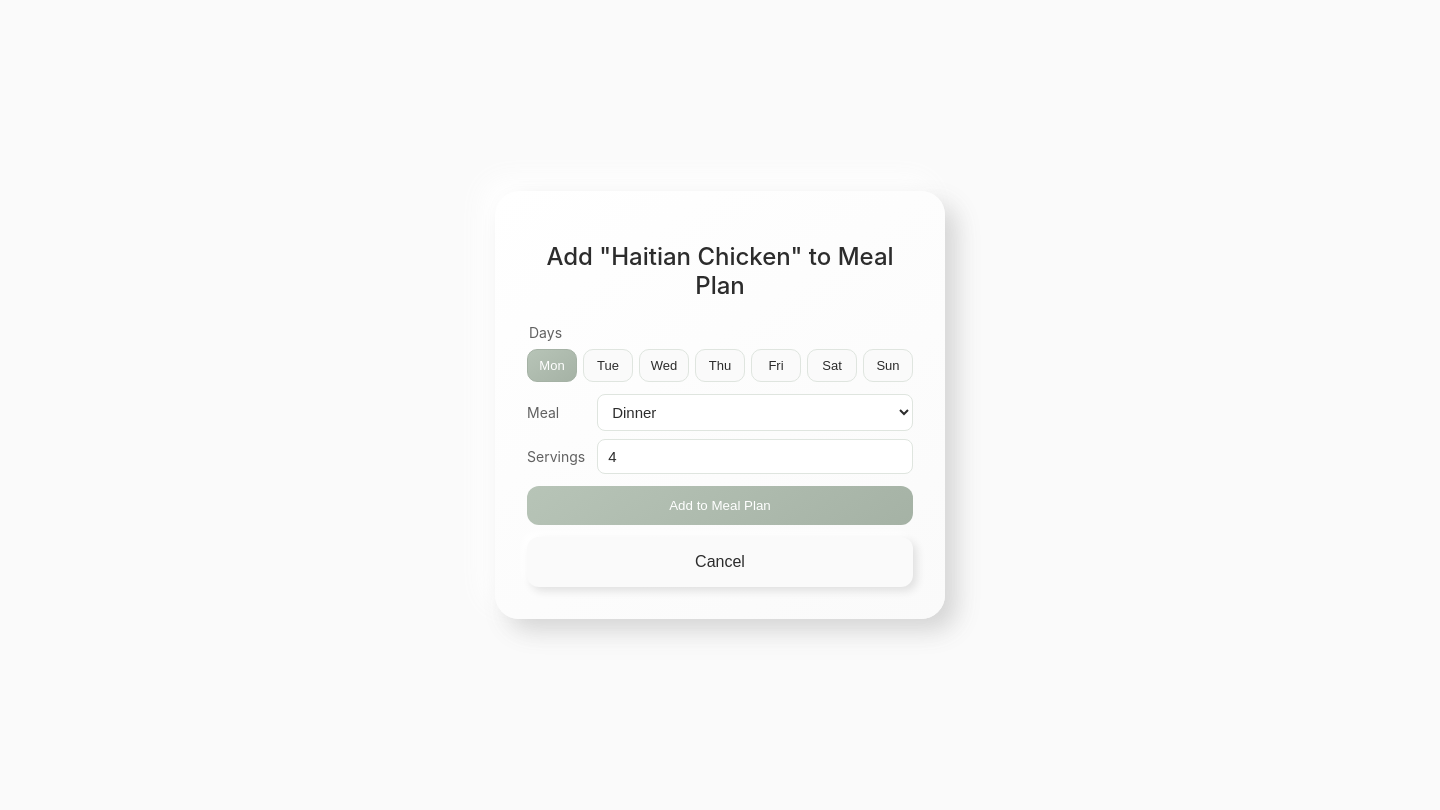
Test case: days run Monday to Sunday; with no day selected nothing can be added
Click the button with aria-label "Monday" at (552, 366), box [527, 350, 577, 382]
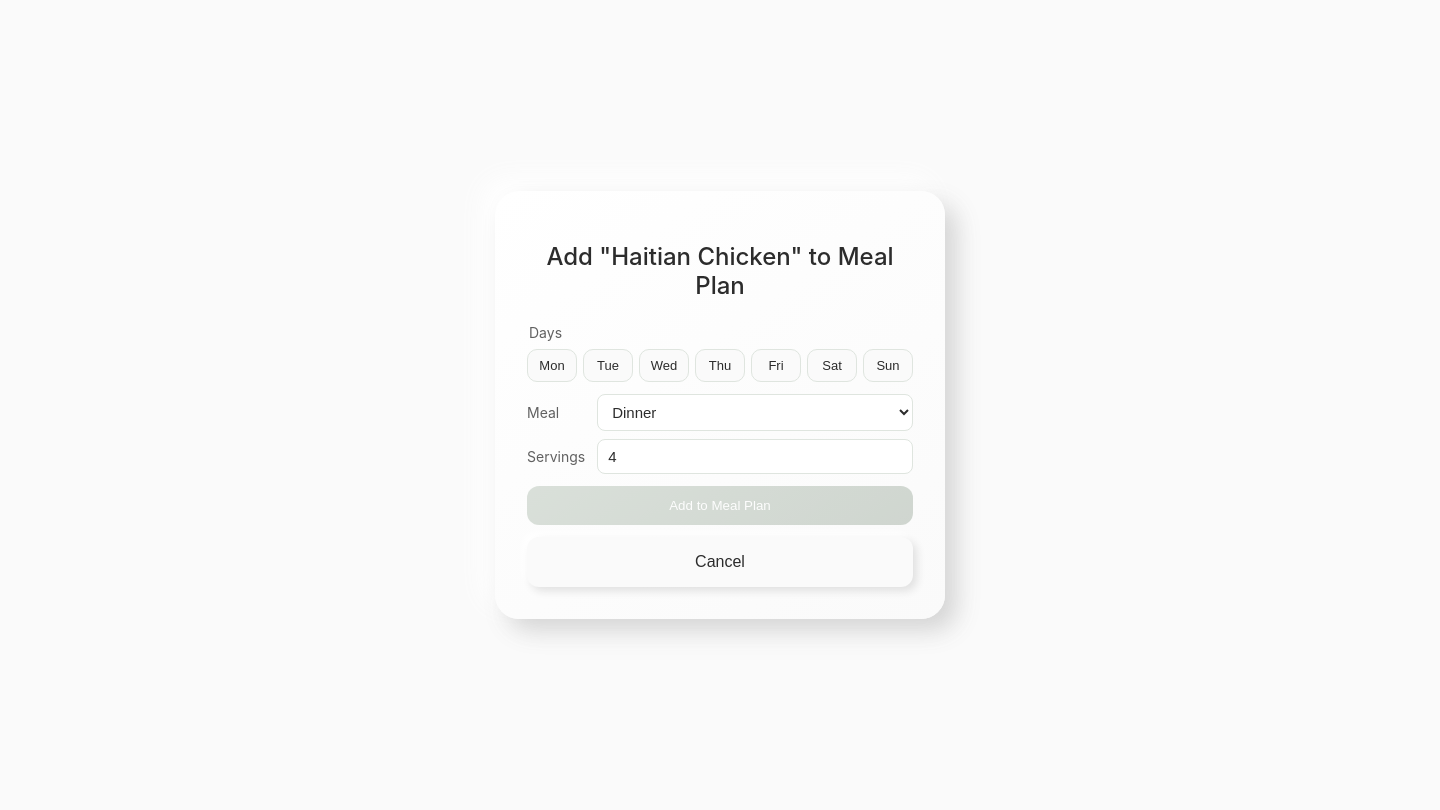
Expected: the button "Add to Meal Plan" is disabled, [527, 486, 913, 526]
